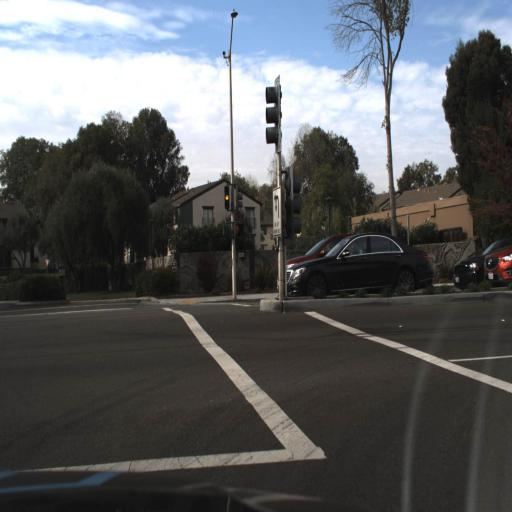car: (274, 225, 435, 313), (447, 241, 482, 296), (478, 242, 511, 292)
trafficLight-Yellow: (218, 178, 232, 214), (222, 185, 229, 215)
